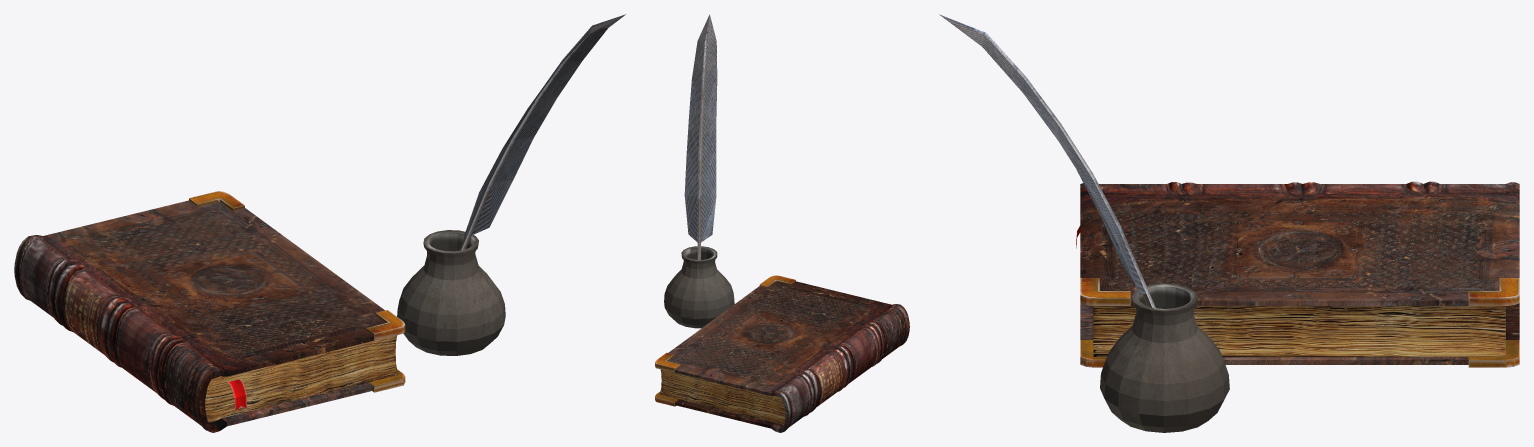
File: book_on_desk.glb
3 views of the same model, side by side, from view 1: azimuth 30°, elevation 25°; view 2: azimuth 150°, elevation 25°; view 3: azimuth 270°, elevation 25° (orthographic). The views are drawn at different scales.
Visible parts, largest first — view 1: Object_3, Object_5, Object_4; view 2: Object_3, Object_4, Object_5; view 3: Object_3, Object_5, Object_4.
Boxes of the visible parts, x1,y1,x2,y2 form: Object_3: [14, 191, 405, 432]; Object_5: [397, 230, 505, 355]; Object_4: [459, 14, 625, 250]; Object_3: [655, 275, 909, 432]; Object_4: [684, 14, 717, 259]; Object_5: [664, 246, 734, 328]; Object_3: [1076, 181, 1519, 367]; Object_5: [1100, 283, 1229, 432]; Object_4: [939, 14, 1155, 308].
Bounding box in the file's own units: 3.52 × 3.46 × 4.06.
Materials: 3 (3 with a texture image).
